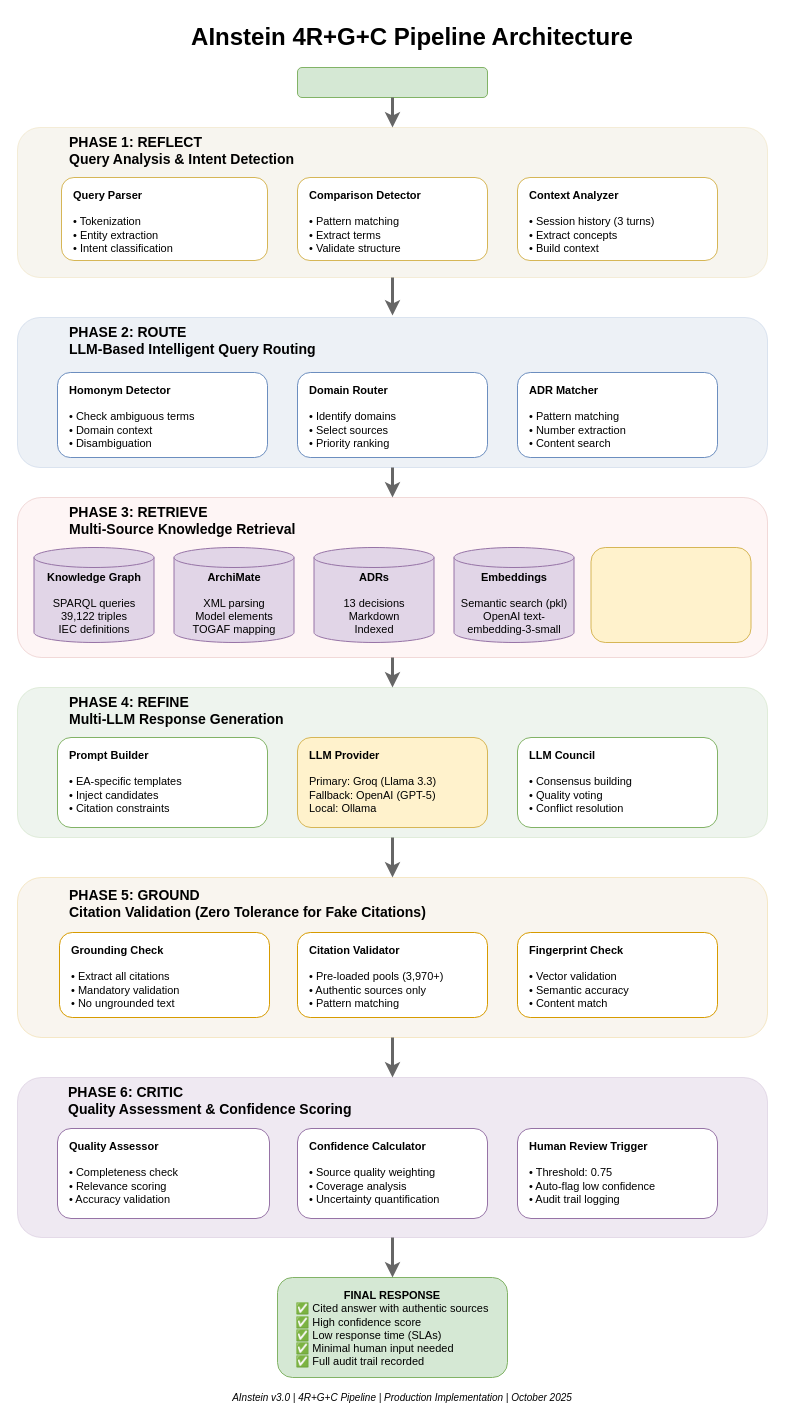
The diagram is 785 pixels wide and 1424 high, and some of its shapes have lost their labels. The shapes that lost their labels are listed below. From the top down, each one's centre as x and y in pixels, then its label:
point (392, 82): User Prompt
point (670, 594): API Reranking OpenAI embeddings +15-20% quality text-embedding-3-small
